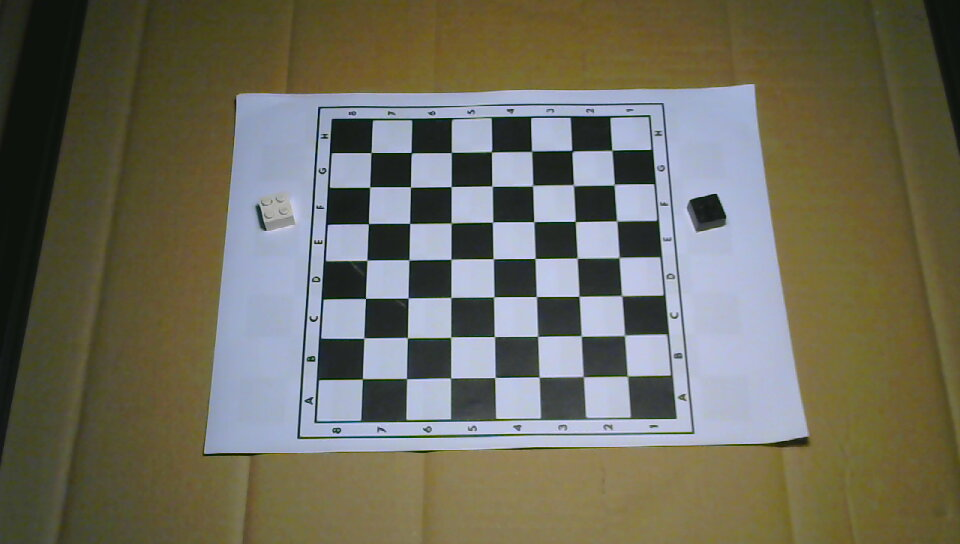bp: (687, 193, 727, 233)
wp: (256, 190, 296, 232)
